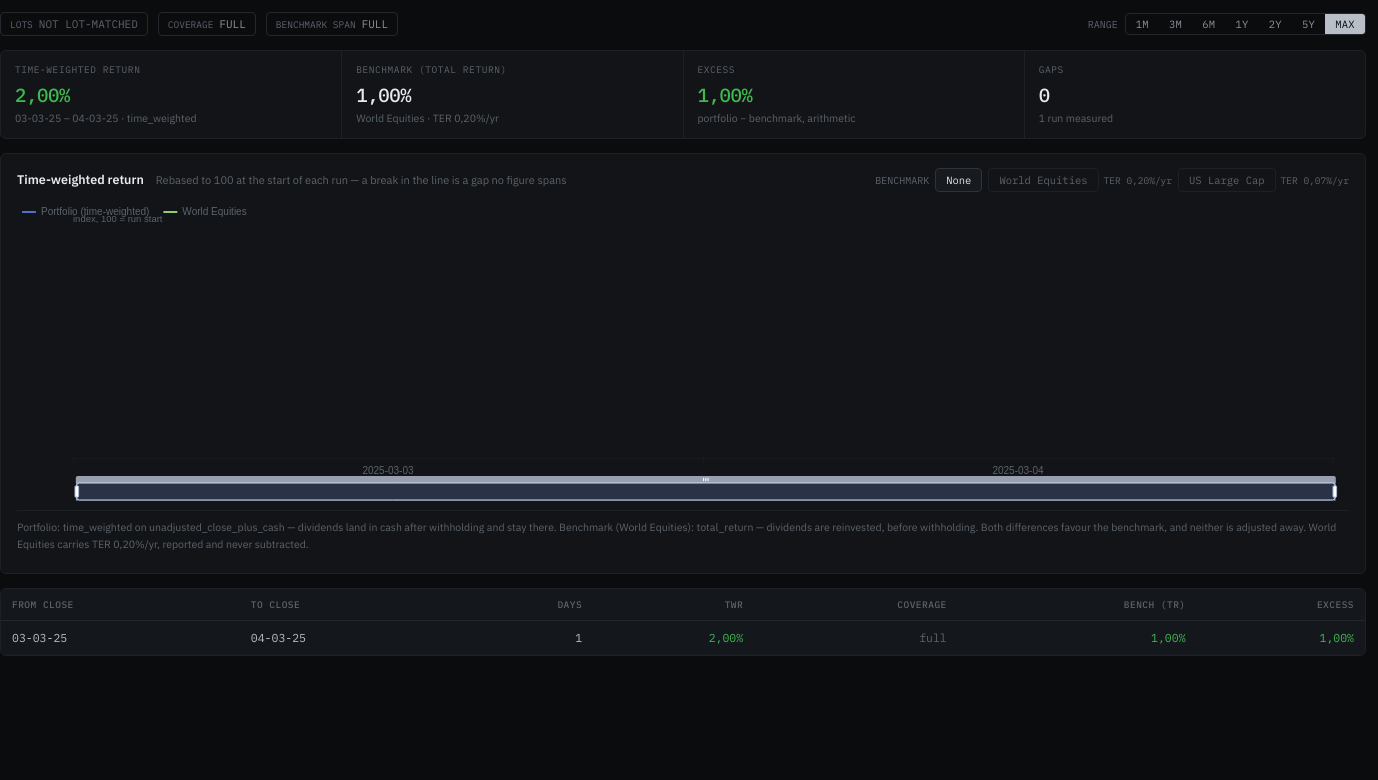
Test: the label under a refetch › keeps the old benchmark's name on the old figures until the new report lands
The image size is (1378, 780).
Expected: the text "World Equities · TER 0,20%/yr" is shown, [356,111,499,125]
Click the button "US Large Cap" at (1227, 180), box [1178,168,1276,192]
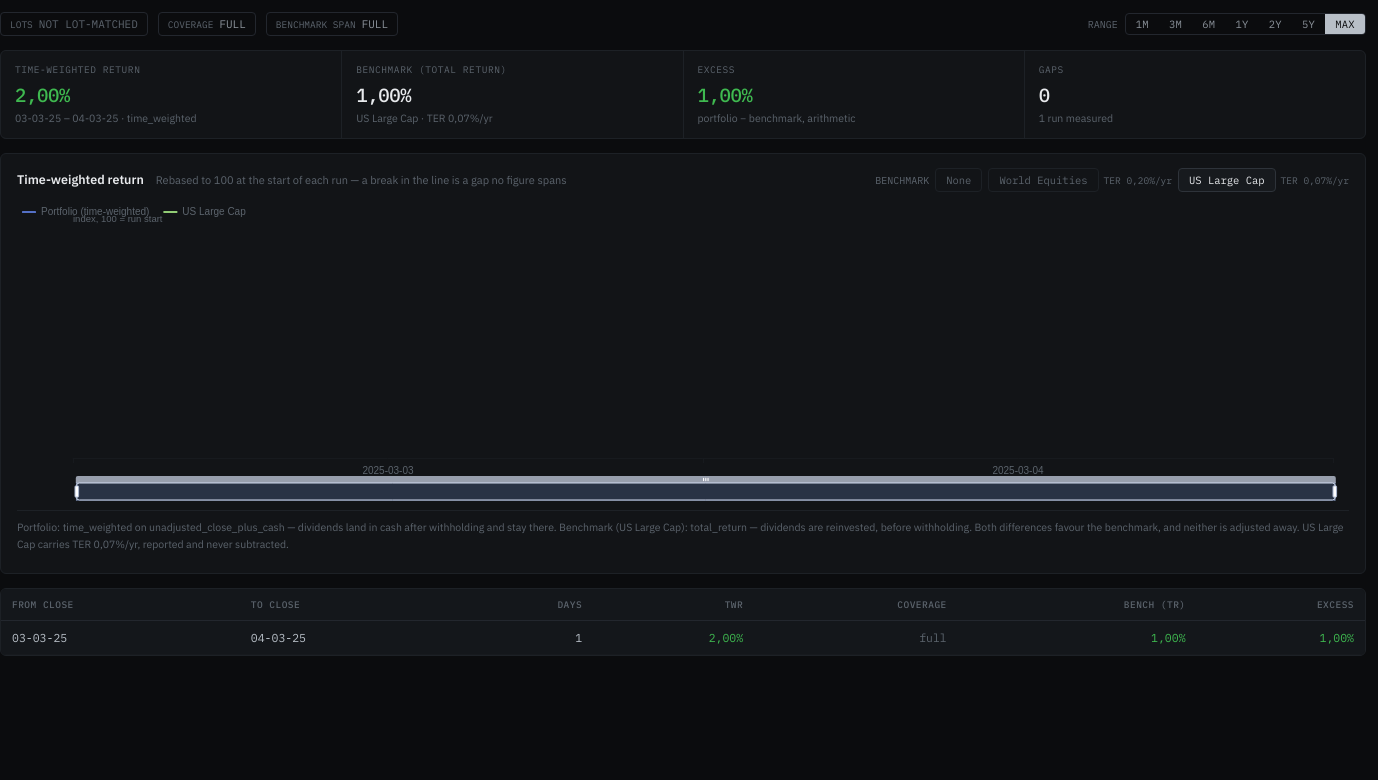
Result: the text "US Large Cap · TER 0,07%/yr" is shown at [356,111,493,125]
